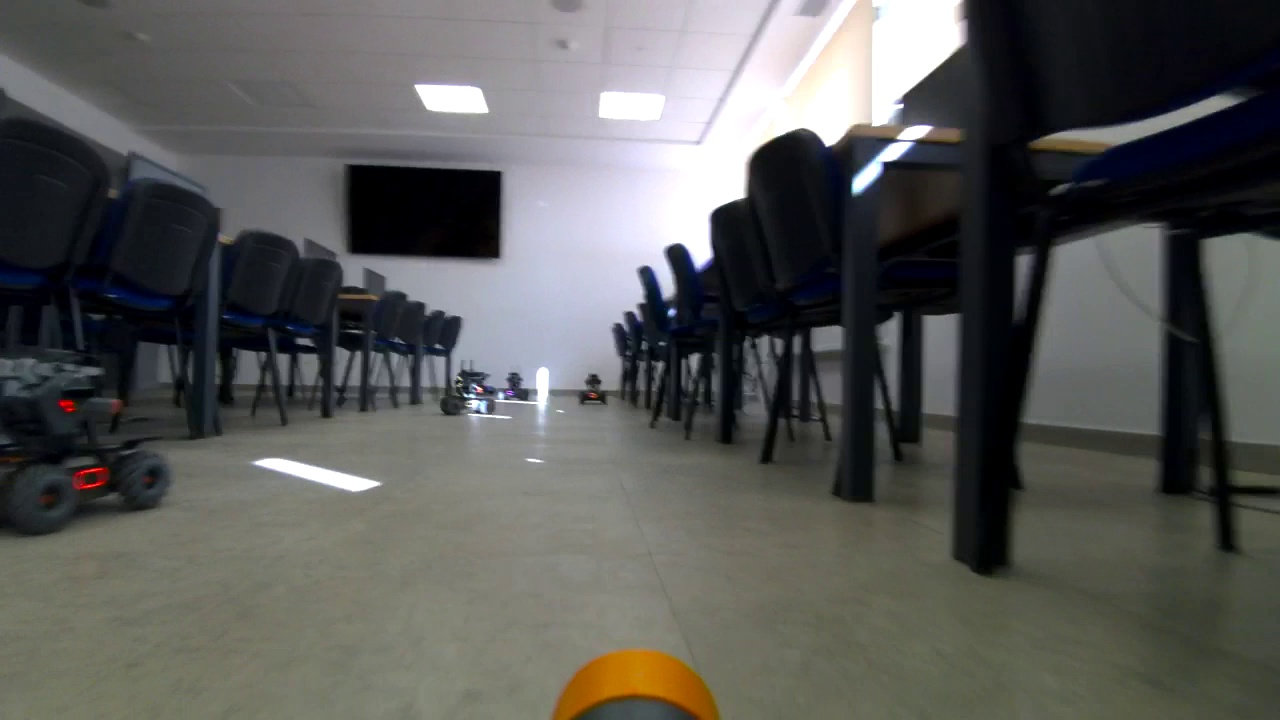robot: (4, 346, 184, 530), (440, 367, 499, 420), (502, 367, 529, 400), (582, 373, 604, 405)
